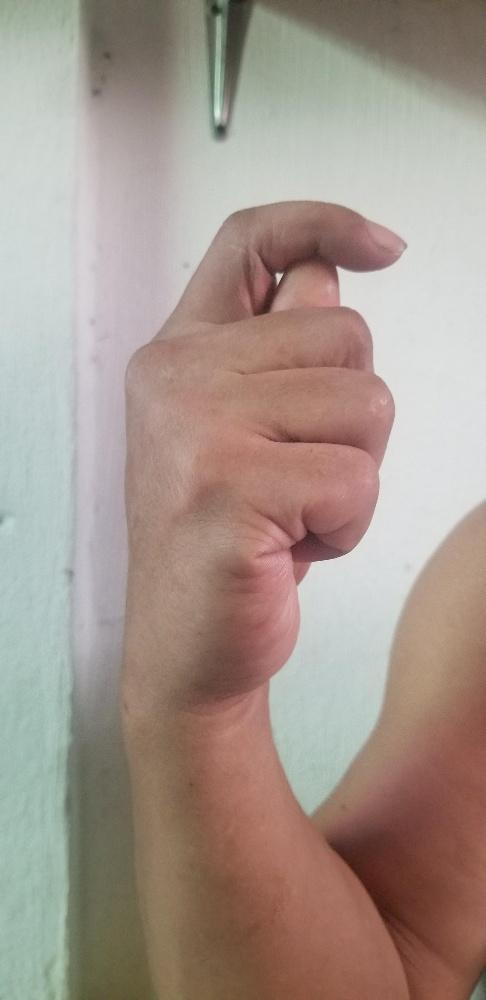t: (116, 197, 410, 690)
